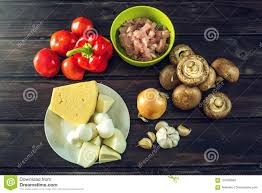Onion: (158, 127, 182, 149)
Tomato: (37, 49, 60, 75)
